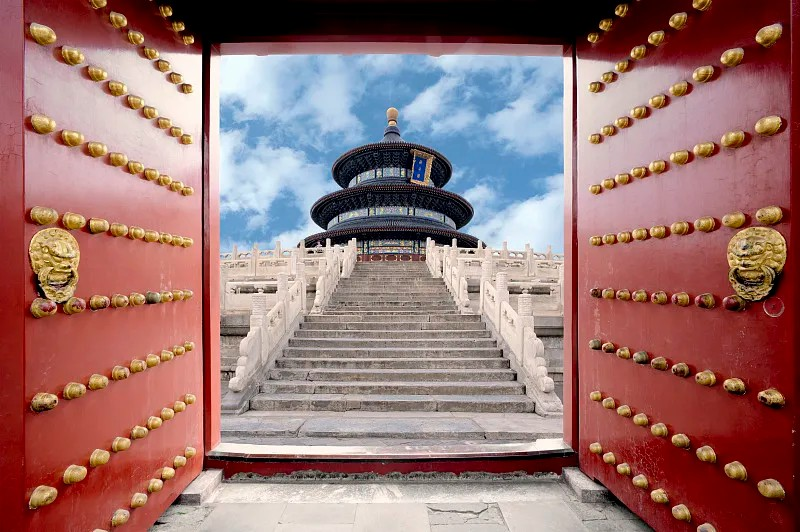Heaven: (298, 107, 486, 261)
